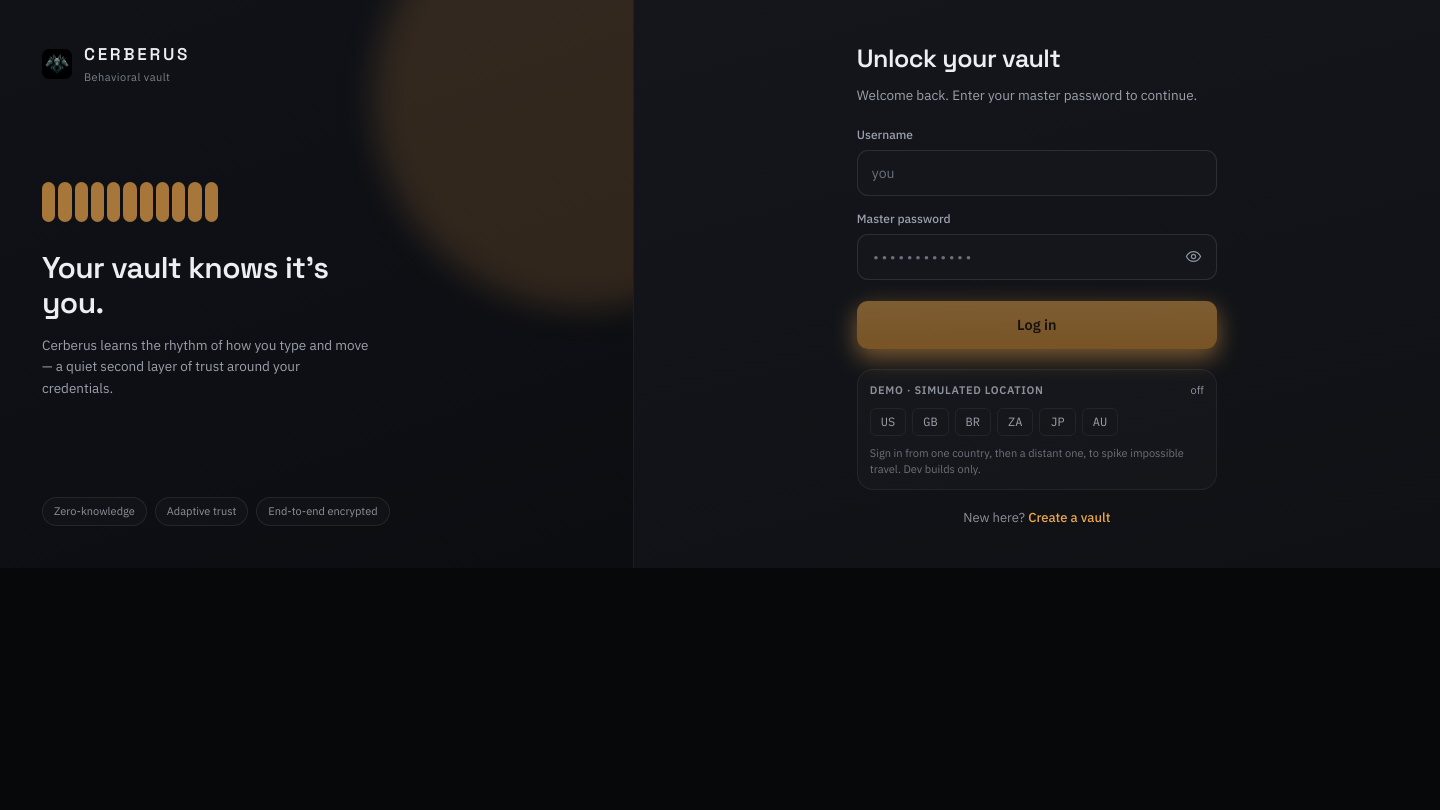
Scenario: AuthScreen — distinct login outcomes (Part A) › 403 WITH a demo breakdown → generic message PLUS a clearly-labelled demonstration panel
Type "alice" into the field labelled "Username" at [1037, 173], box top-left (857, 150), bottom-right (1217, 196)
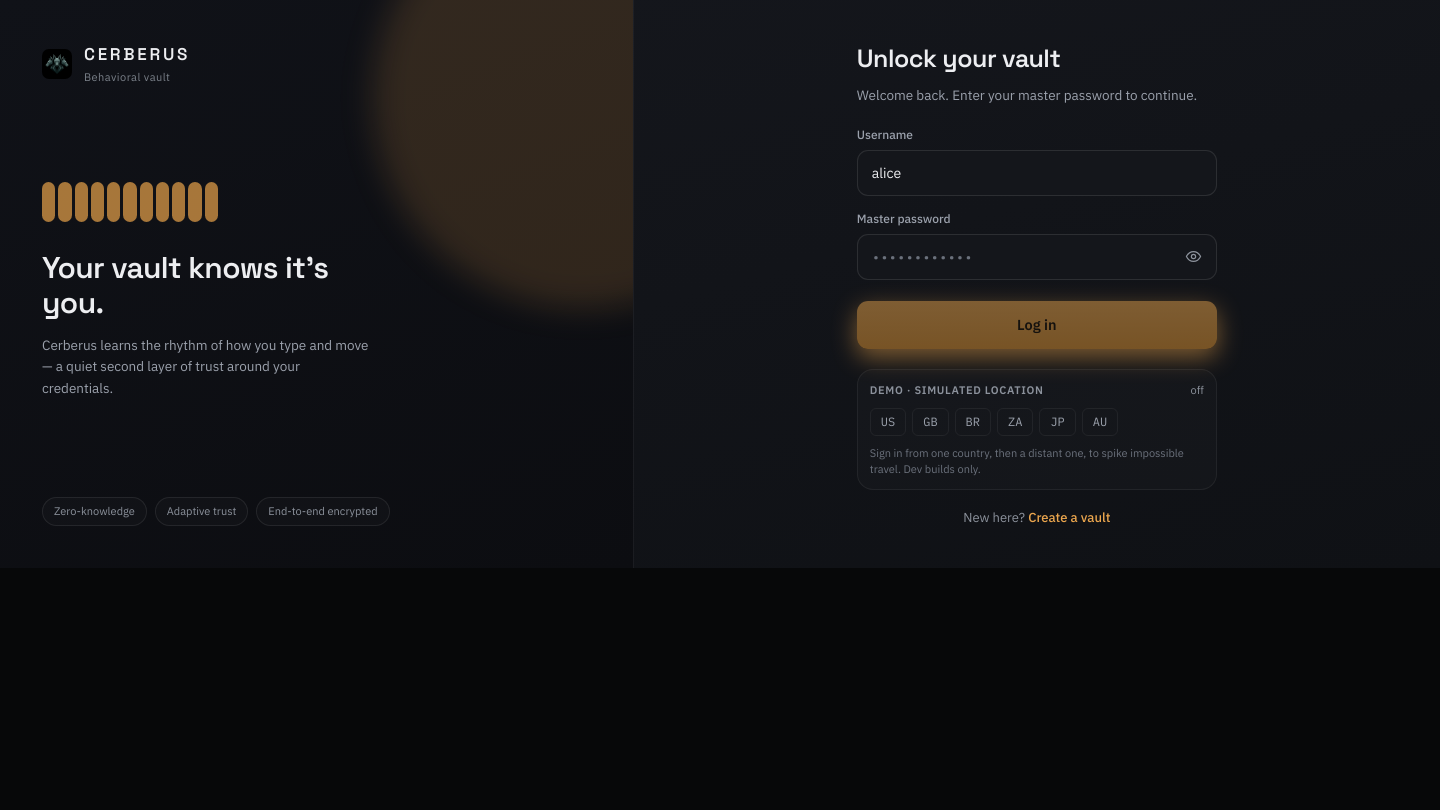
Type "master-pw" into the password field labelled "Master password" at [1037, 257], box top-left (857, 234), bottom-right (1217, 280)
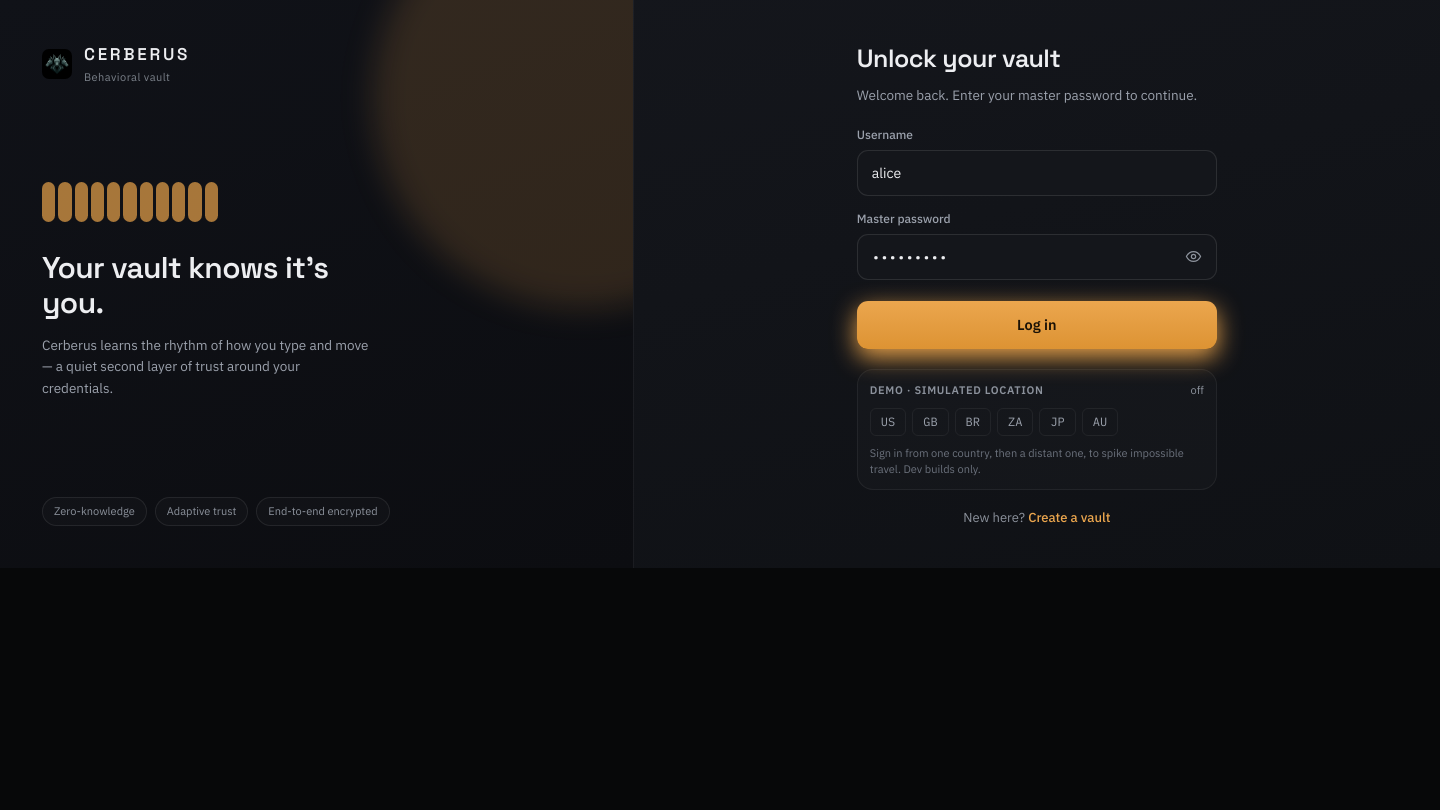
Click the button "Log in" at [1037, 325], box top-left (857, 301), bottom-right (1217, 349)
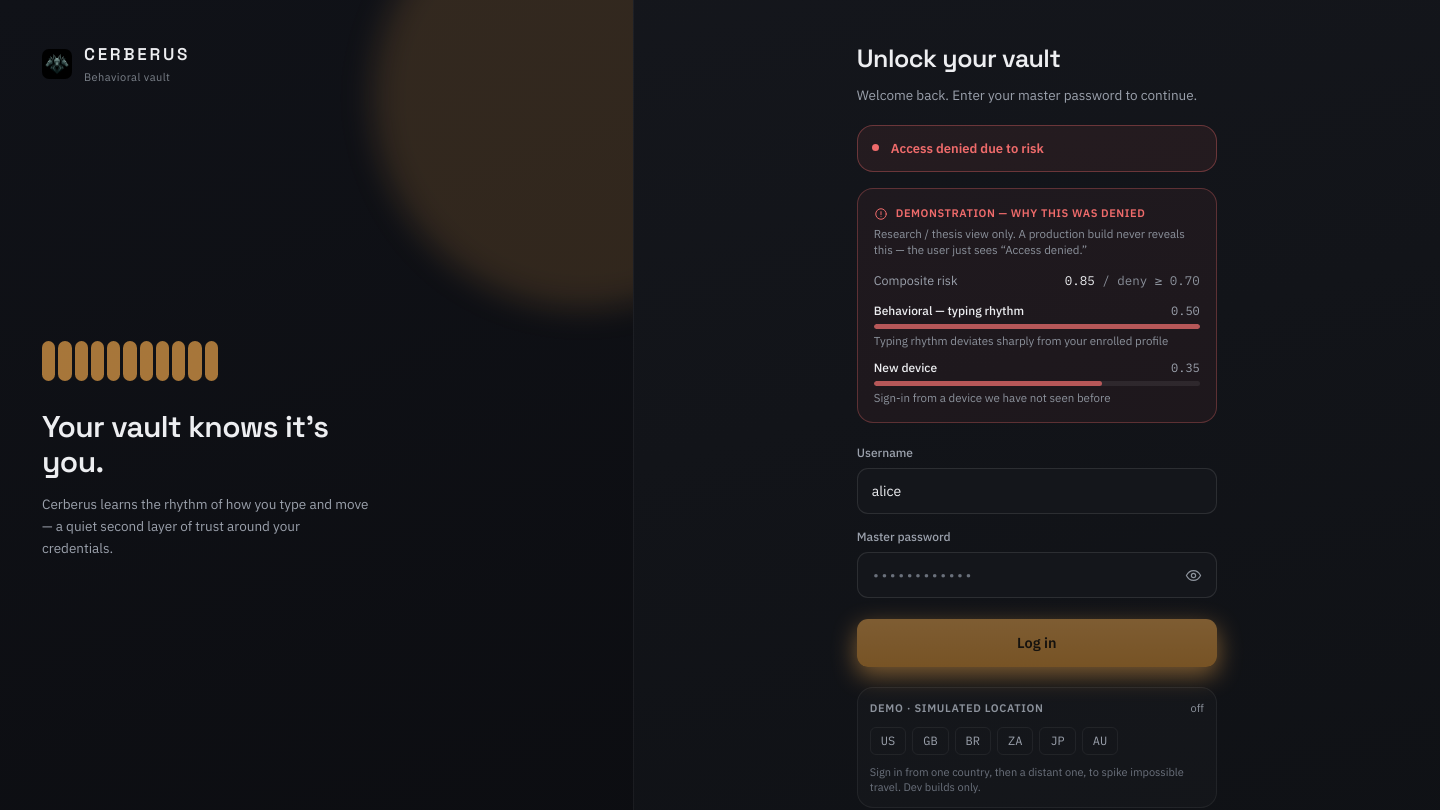
Expected: the message reads "Access denied due to risk", top-left (891, 140), bottom-right (1044, 157)
Expected: the text "Demonstration — why this was denied" is shown, top-left (874, 206), bottom-right (1145, 221)
Expected: the text "production build never reveals" is shown, top-left (874, 226), bottom-right (1185, 258)
